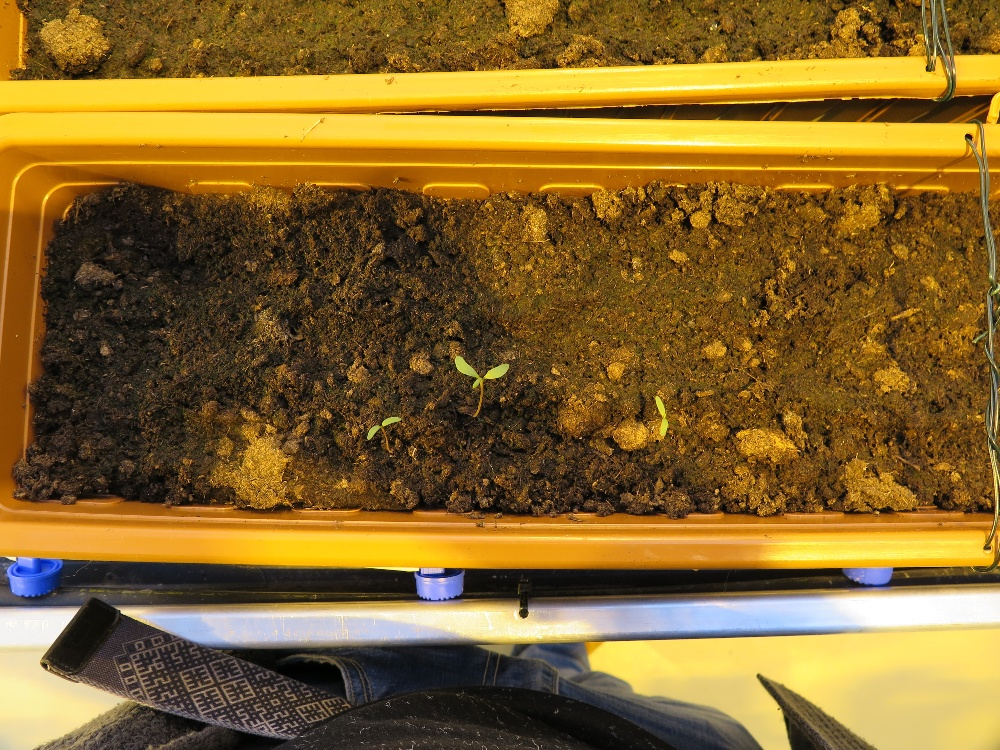weed: (453, 353, 510, 389), (365, 414, 402, 442), (653, 393, 668, 439)
